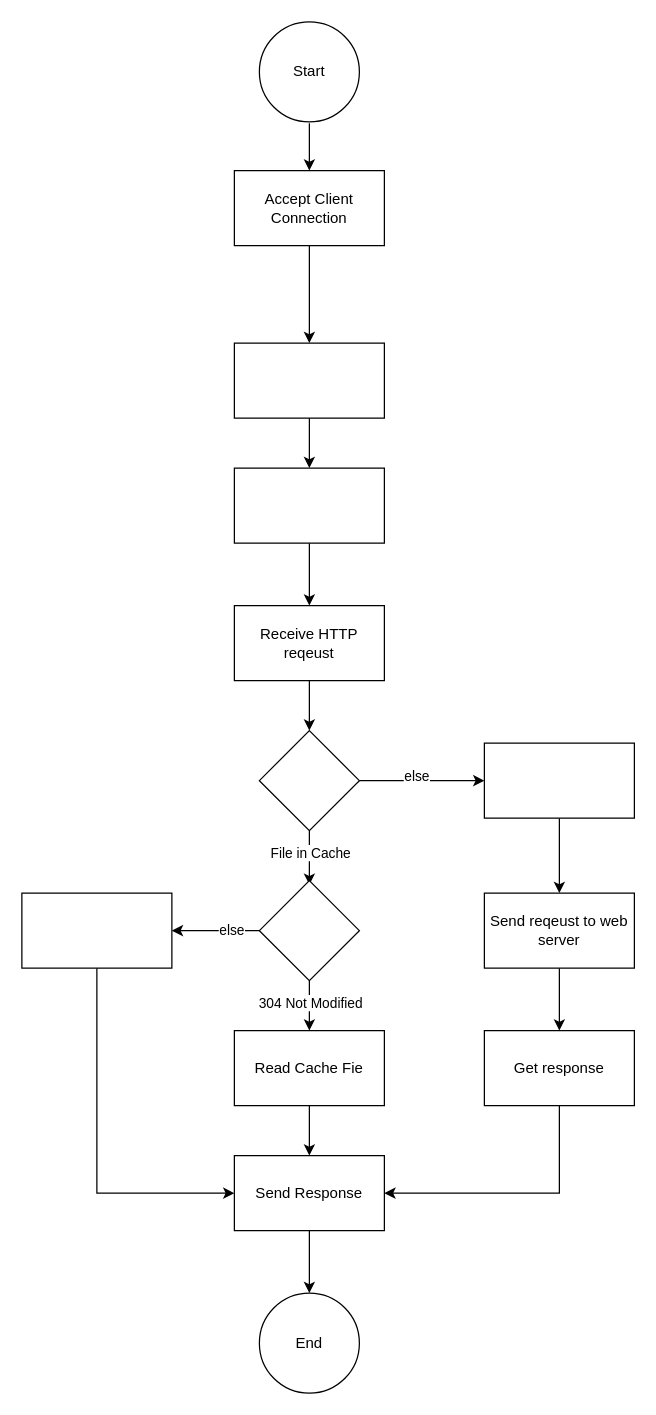
Image size: 656x1415. Some labels were removed from this diagram. The shapes that lost their labels are listed below. From the top down, each one's centre as x and y in pixels, then its label:
the point at 308,380: Create Thread for each Client
the point at 308,505: Handle Client
the point at 558,780: Get host name and path
the point at 96,930: Send new file
